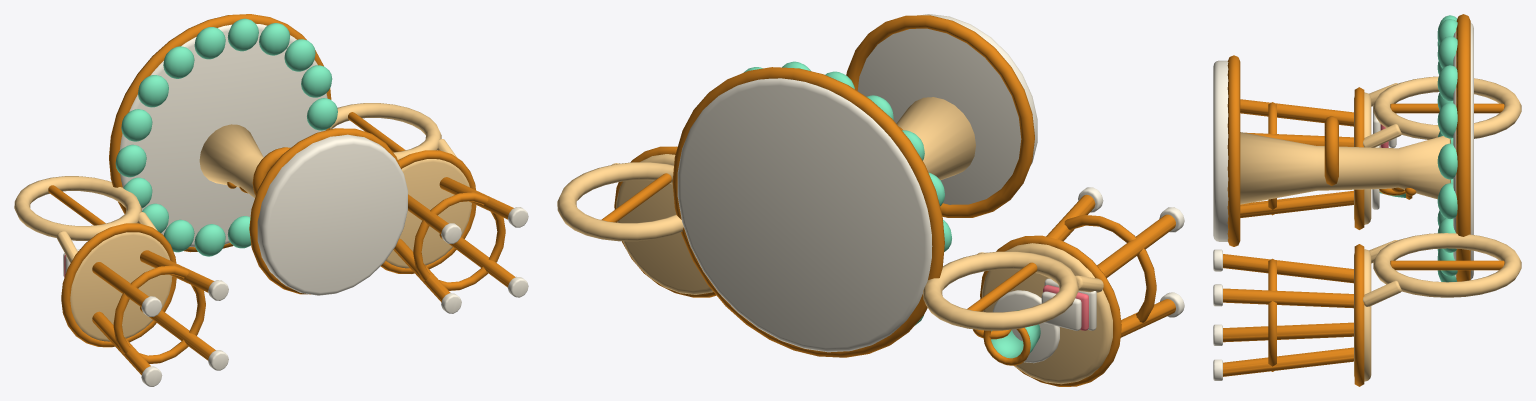
The model's file is GardenBistroSet_Premium.fbx.
3 renders of one model, left to right at view 1: azimuth 30°, elevation 25°; view 2: azimuth 150°, elevation 25°; view 3: azimuth 270°, elevation 25°, orthographic. The views are drawn at different scales.
Visible parts, largest first — view 1: GardenBistroSet; view 2: GardenBistroSet; view 3: GardenBistroSet.
Boxes of the visible parts, x1,y1,x2,y2 form: GardenBistroSet: [14, 14, 528, 386]; GardenBistroSet: [557, 14, 1184, 386]; GardenBistroSet: [1213, 14, 1521, 386].
Size of the model in its own units: 1.3 by 0.7672 by 0.7809.
